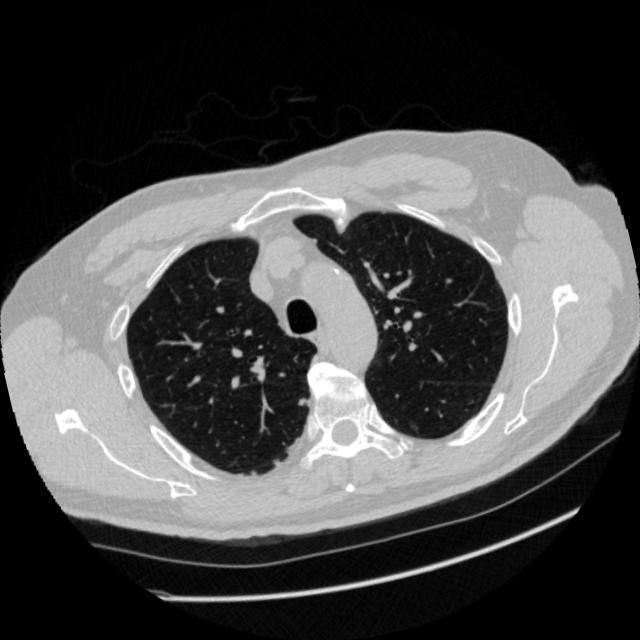nodule: (289, 389, 311, 412)
